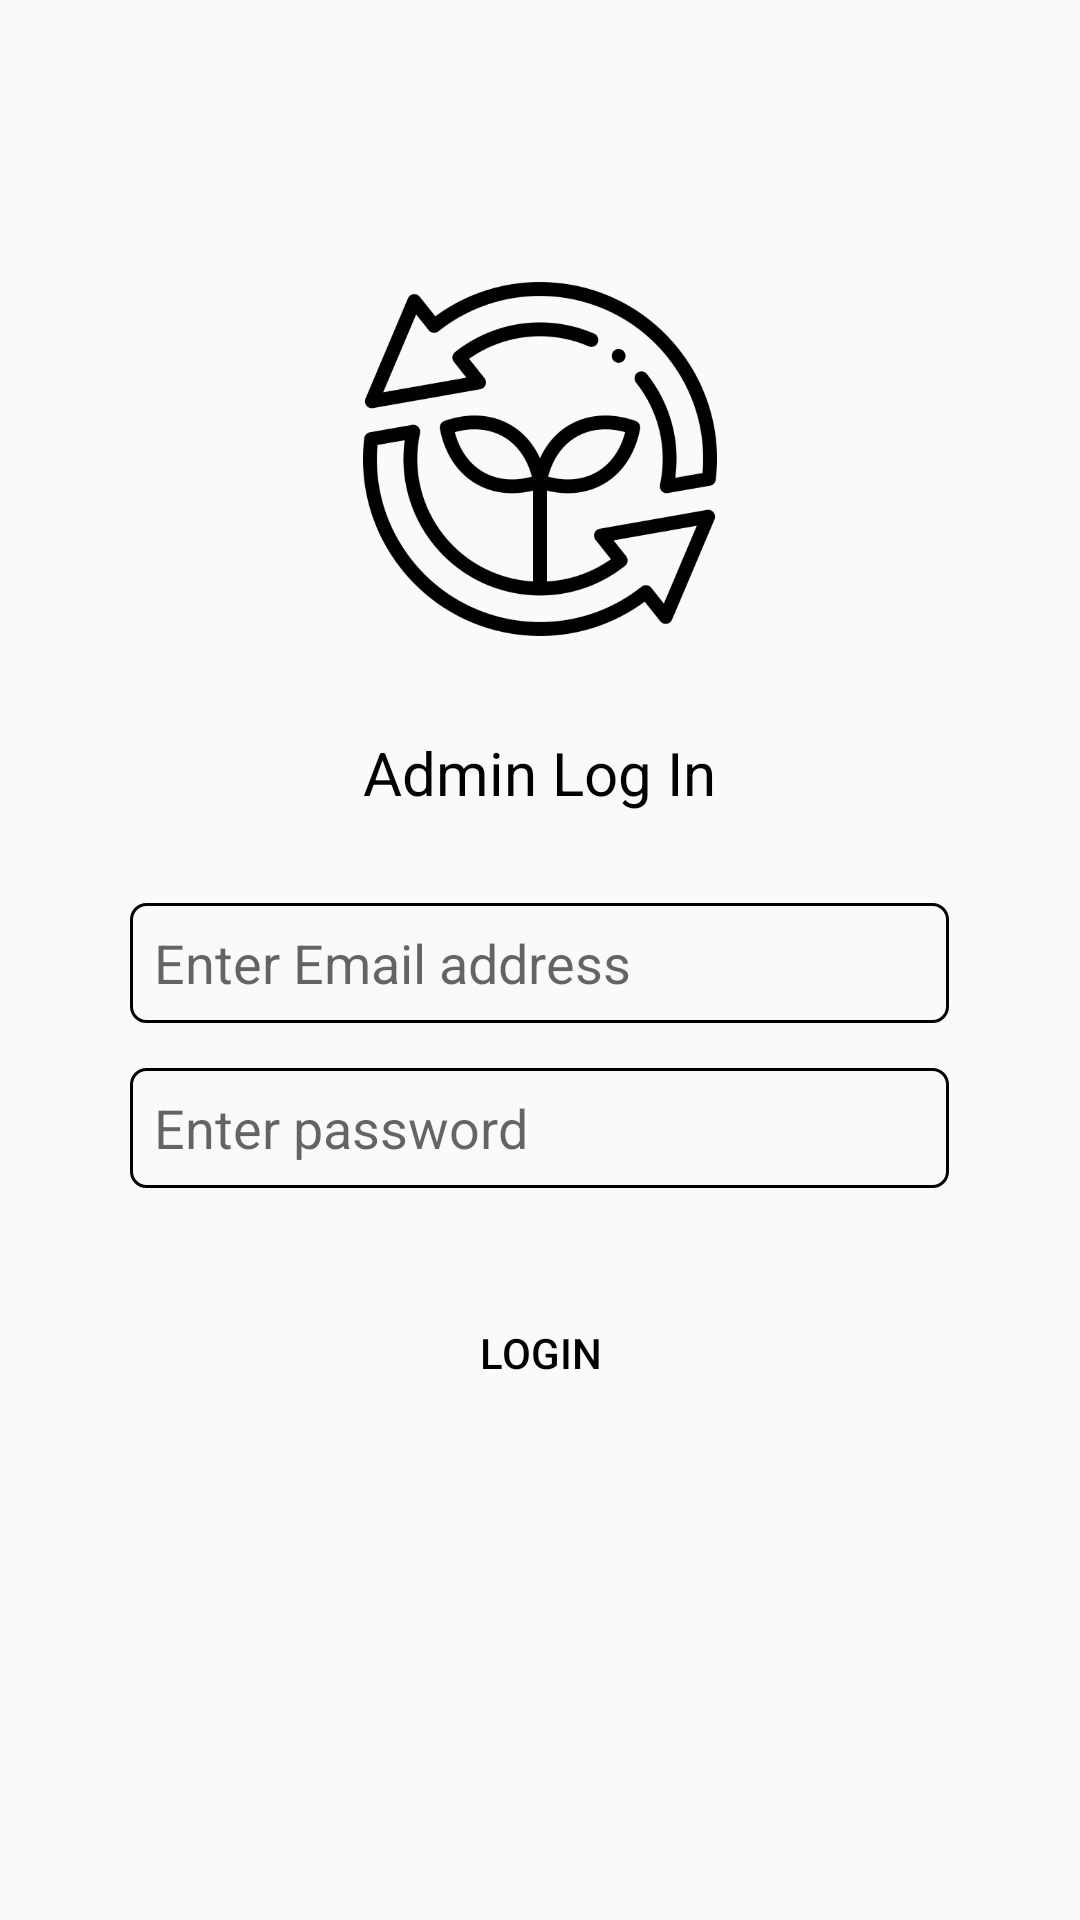

Screen size 1080 × 1920. Icon name, then its box in pixels as (x1, y1, x2, y2):
recycle: (363, 282, 717, 636)
